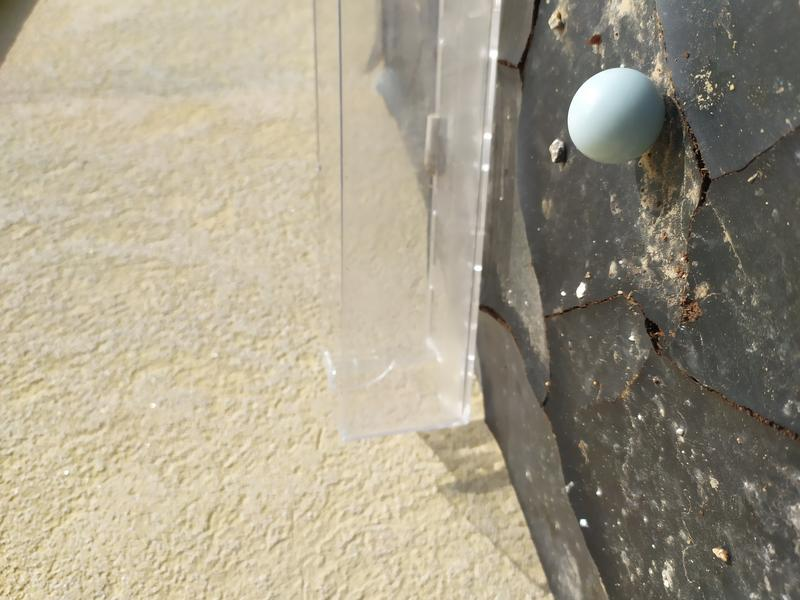Warning: (564, 65, 669, 168)
